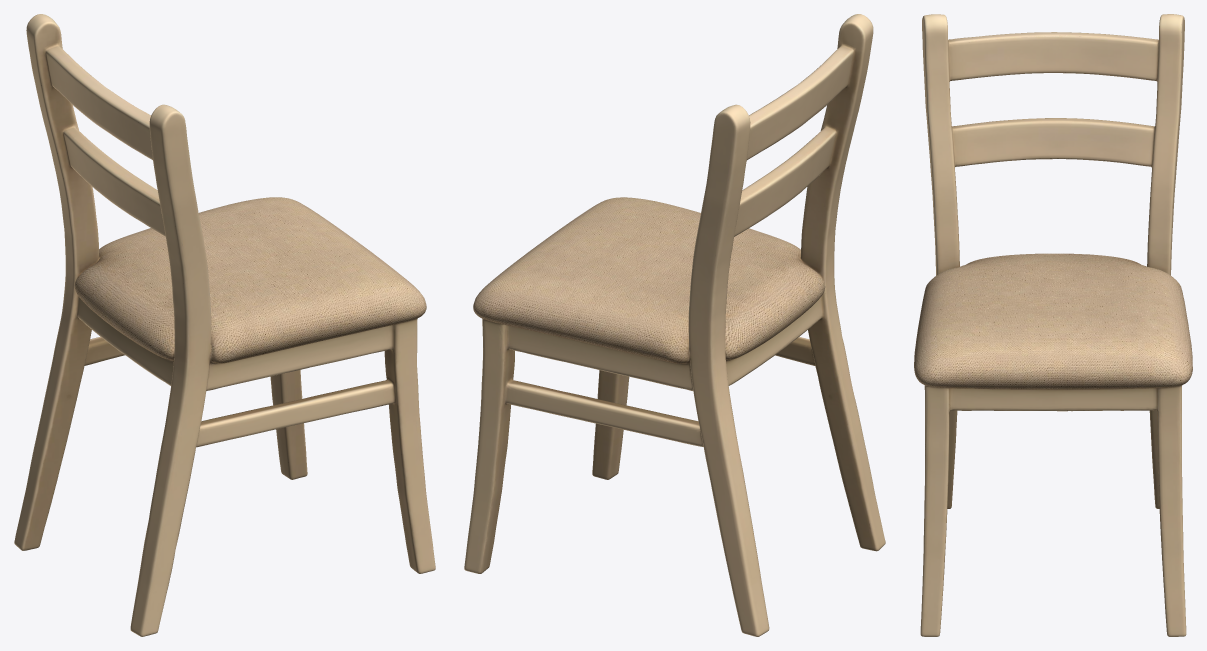
Rendered from Zidle.glb.
The picture shows the model from 3 angles, left to right: view 1: azimuth 30°, elevation 25°; view 2: azimuth 150°, elevation 25°; view 3: azimuth 270°, elevation 25°; orthographic projection. The views are drawn at different scales.
Visible parts, largest first — view 1: tripo_node_d1e08efb; view 2: tripo_node_d1e08efb; view 3: tripo_node_d1e08efb.
Boxes of the visible parts, <box> form: tripo_node_d1e08efb: <box>14,14,435,636</box>; tripo_node_d1e08efb: <box>464,14,885,636</box>; tripo_node_d1e08efb: <box>914,14,1192,636</box>.
Bounding box in the file's own units: 0.5728 × 0.9799 × 0.4948.
Materials: 1 (1 with a texture image).
